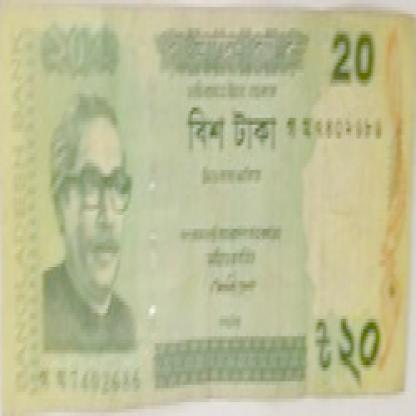Twenty: (178, 93, 278, 170), (48, 17, 132, 94), (314, 312, 384, 385), (331, 24, 381, 90)
